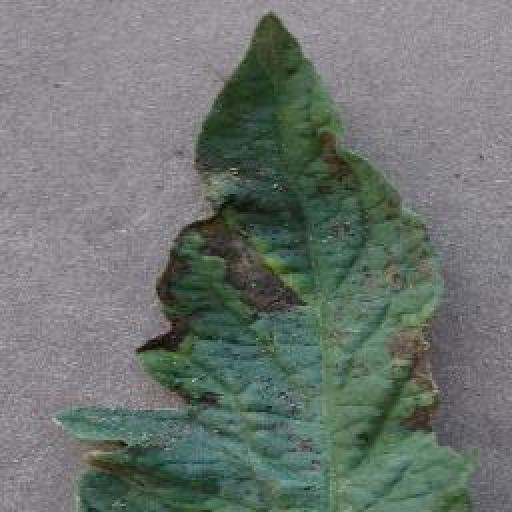disease_tomato: (54, 10, 475, 512)
